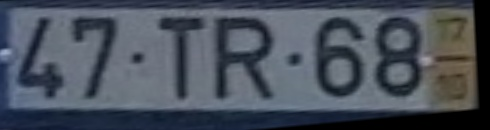4: (13, 14, 70, 104)
6: (311, 12, 370, 102)
7: (69, 15, 123, 105)
8: (371, 12, 429, 100)
R: (212, 14, 280, 104)
T: (155, 15, 210, 103)
